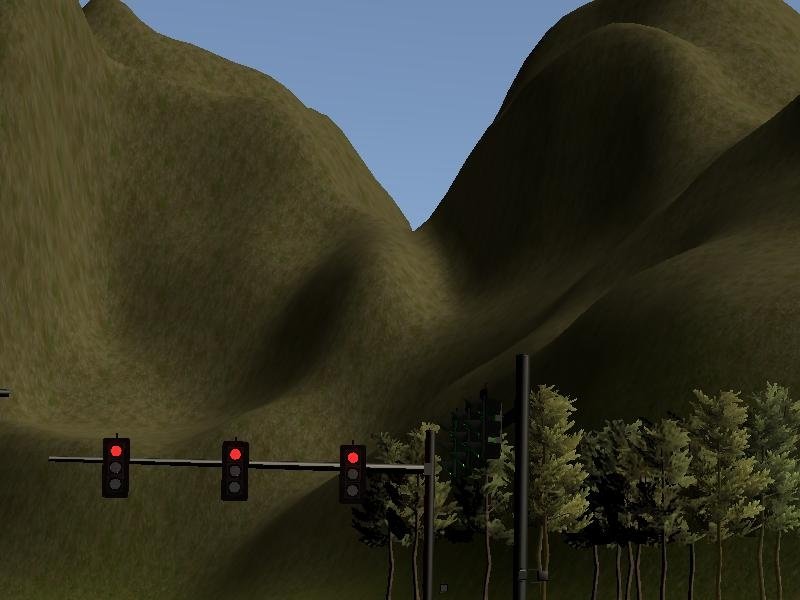red: (335, 446, 368, 505), (100, 437, 128, 499), (221, 443, 248, 499)
